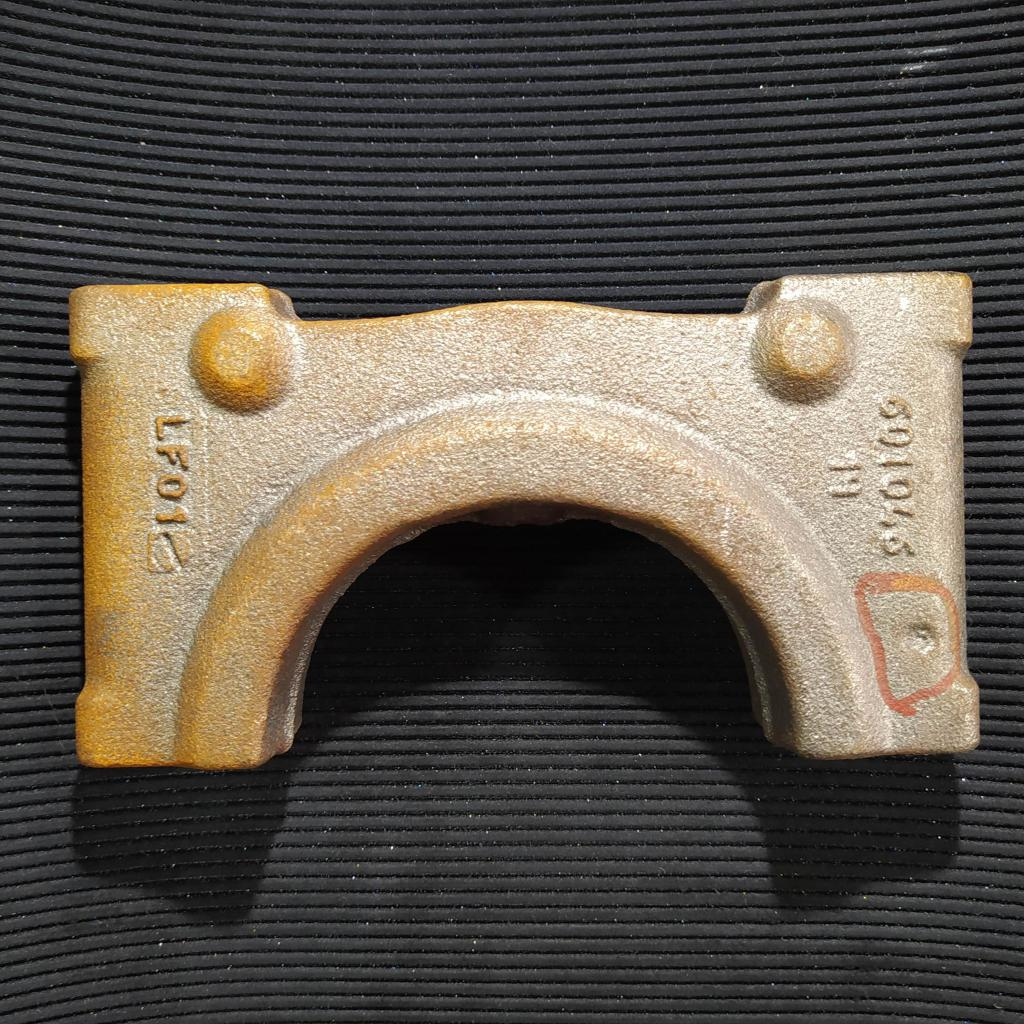buraco: (904, 618, 943, 662)
